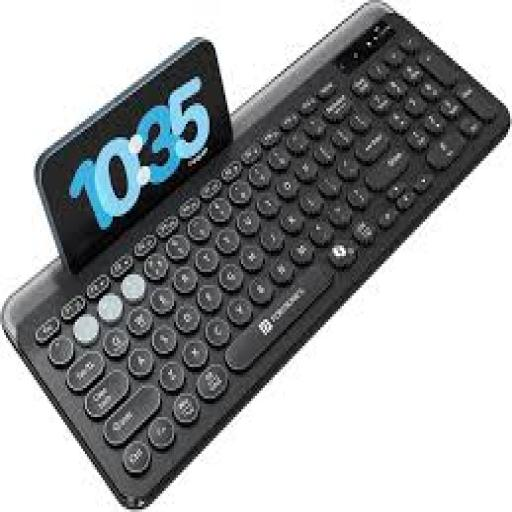keyboard: (4, 3, 508, 507)
